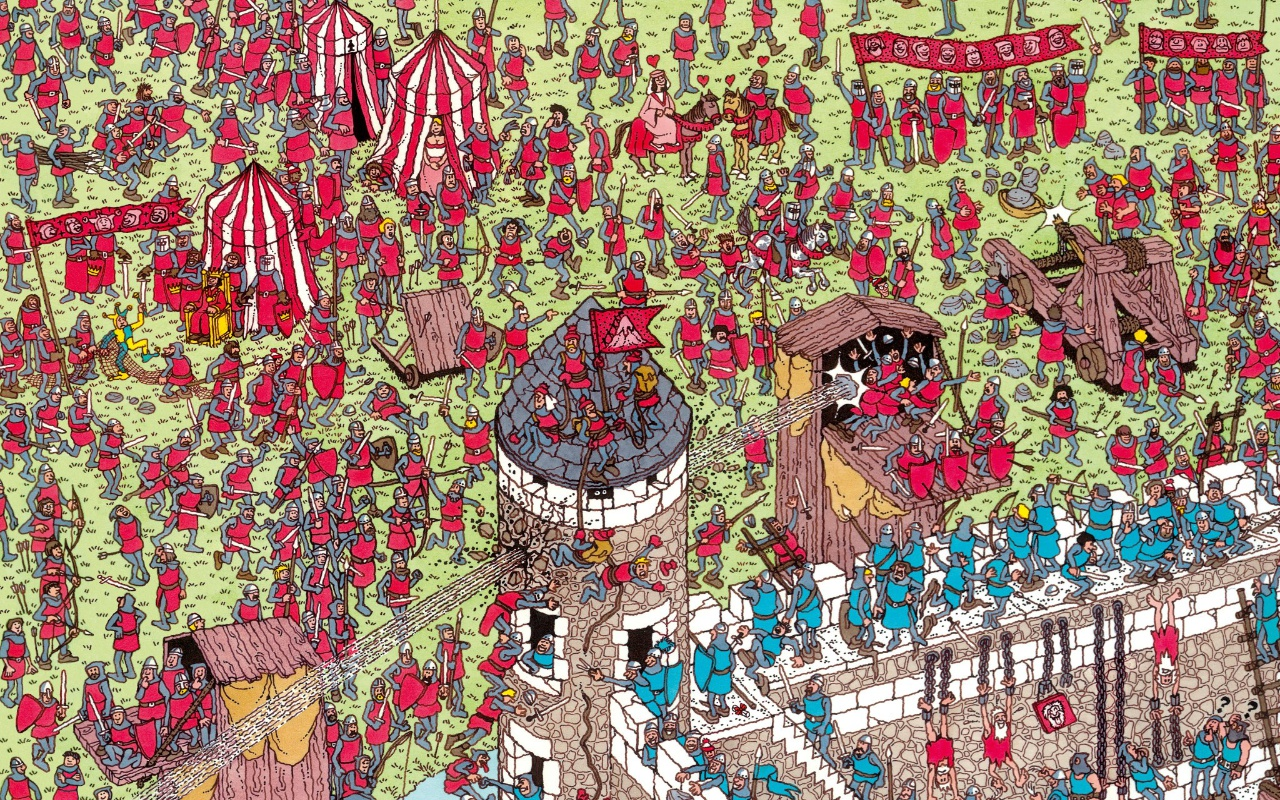waldo: (870, 274, 892, 301)
